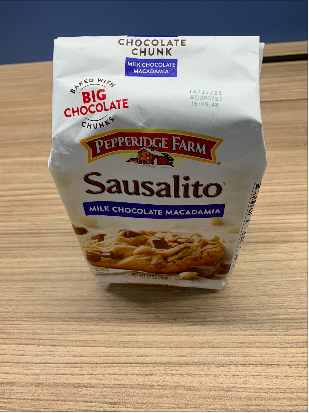Cookies_200-299g: (65, 47, 241, 278)
